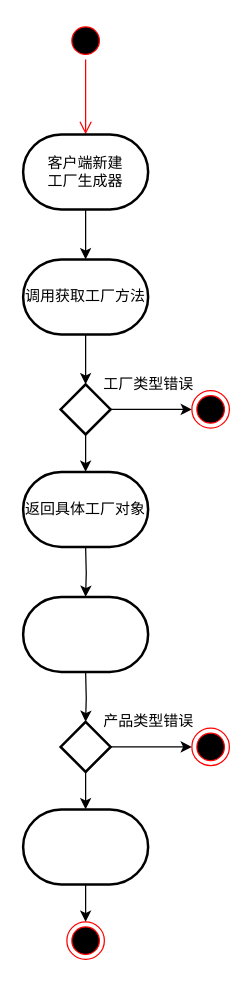
The diagram is 251 pixels wide and 981 high, and some of its shapes have lost their labels. The box of each missing label's shape, as (x1, y1, x2, y2) in pixels:
调用获取对象方法: (21, 595, 149, 672)
返回实例对象: (21, 808, 149, 885)
